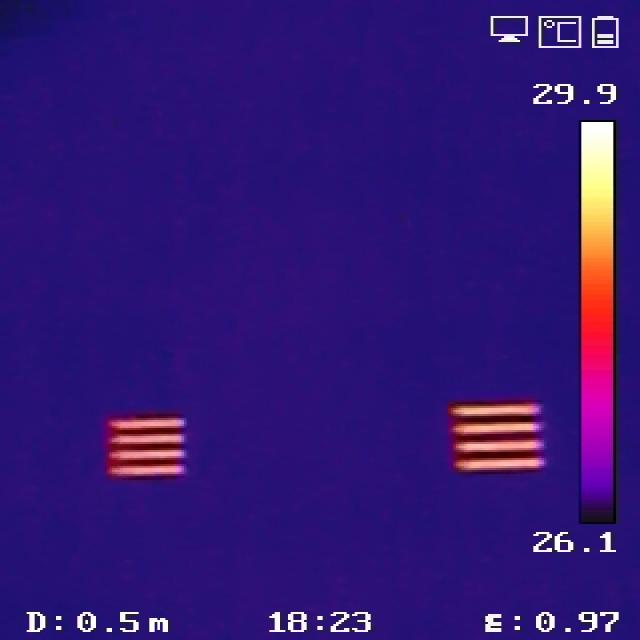Distinguishable 4-bar target: (443, 396, 549, 477), (107, 410, 192, 481)
